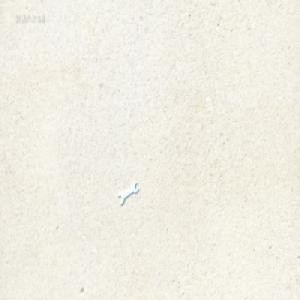Wrench: (117, 180, 138, 206)
